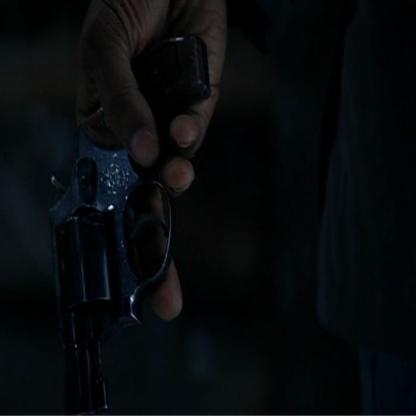gun: (38, 39, 223, 416)
